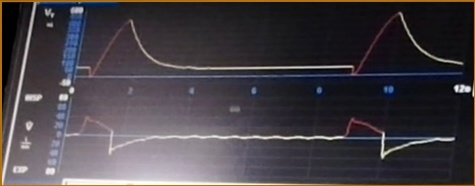Flow: (69, 112, 450, 173)
Leakage Volume: (79, 11, 459, 84)
